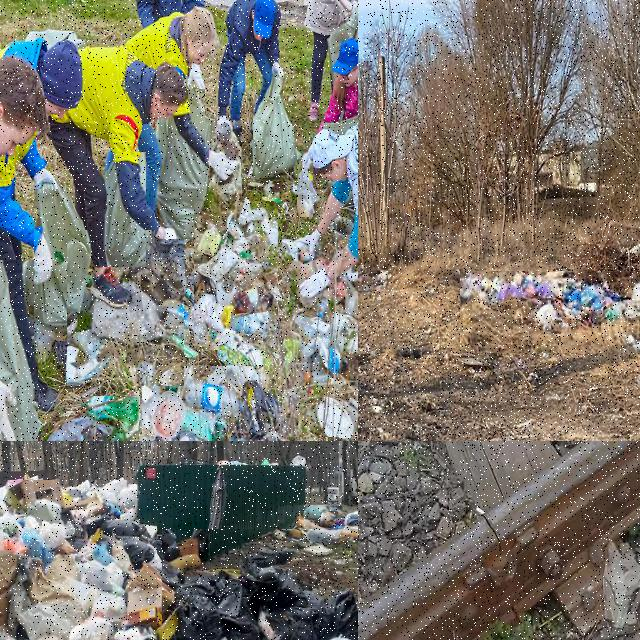lixeira: (0, 480, 160, 639), (162, 529, 357, 639), (68, 230, 186, 387), (283, 235, 357, 439), (460, 271, 639, 355), (195, 202, 280, 352), (143, 366, 289, 440), (35, 189, 86, 342), (156, 90, 207, 241), (0, 260, 41, 440), (100, 153, 148, 269), (253, 75, 304, 184), (603, 501, 639, 629), (278, 505, 357, 557), (210, 120, 244, 208), (81, 397, 141, 440), (297, 148, 314, 218), (358, 256, 390, 292), (45, 417, 90, 440), (261, 182, 284, 206)
